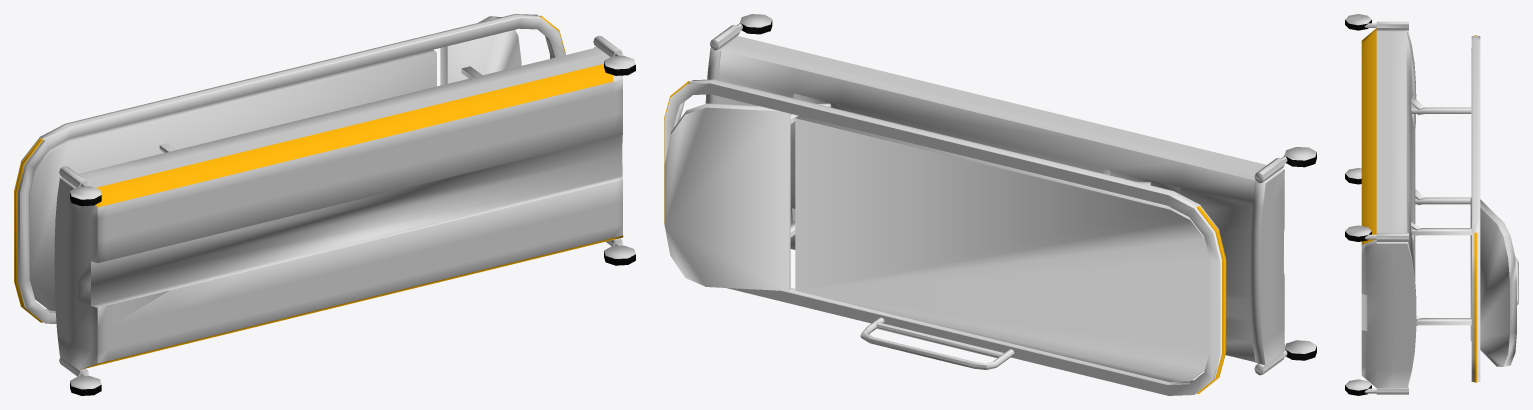
3 views of the same model, side by side, from view 1: azimuth 30°, elevation 25°; view 2: azimuth 150°, elevation 25°; view 3: azimuth 270°, elevation 25° (orthographic). The views are drawn at different scales.
Parts seen in each view (by area): view 1: Cube.004; view 2: Cube.004; view 3: Cube.004.
Part boxes in pixels (<box>): Cube.004: <box>14,14,635,395</box>; Cube.004: <box>664,14,1316,395</box>; Cube.004: <box>1345,14,1518,395</box>.
Size of the model in its own units: 201 by 67.66 by 66.1.
